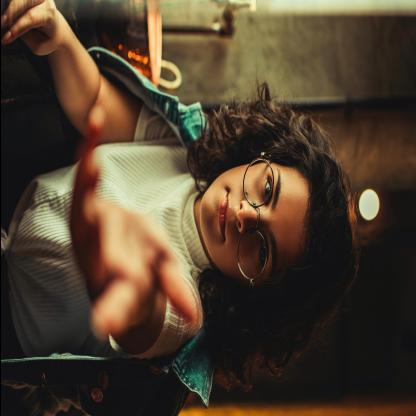Eye: (255, 232, 268, 271), (260, 173, 272, 207)
Mouth: (216, 186, 231, 247)
Nose: (235, 200, 257, 233)
